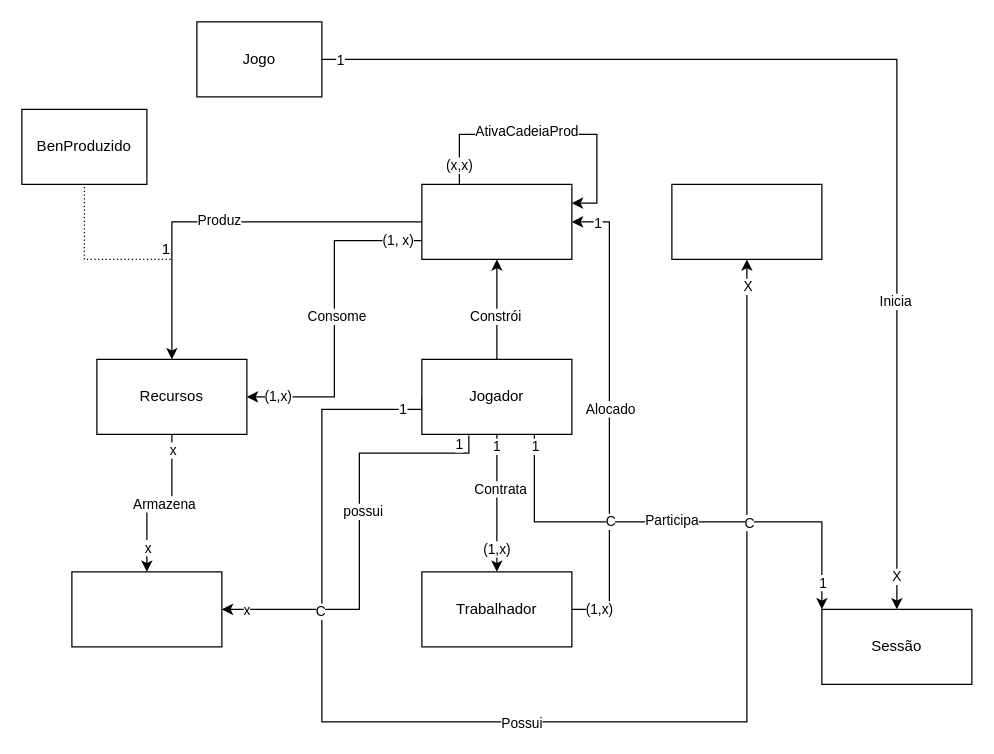
Image size: 994x754. Some labels were removed from this diagram. Here are the shapes that lost their labels. From the top down, the centre of each, then its label:
point 496,221: Edifício
point 746,221: Moedas
point 146,609: Inventário de produção
